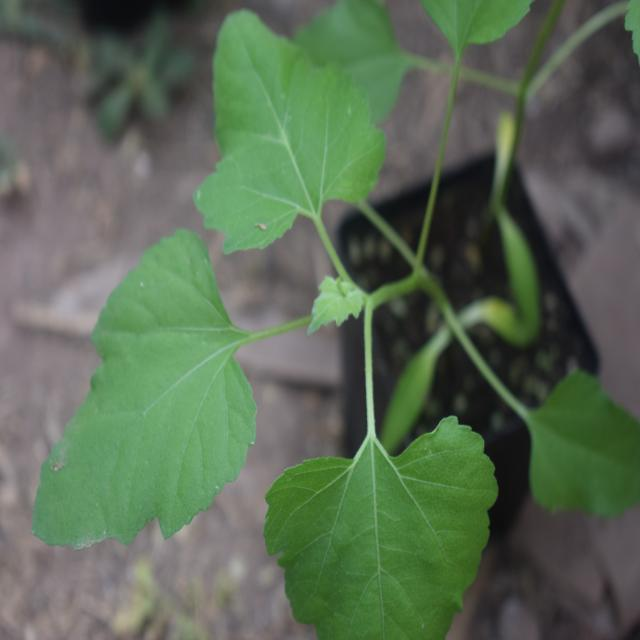cocklebur: (76, 38, 498, 598)
